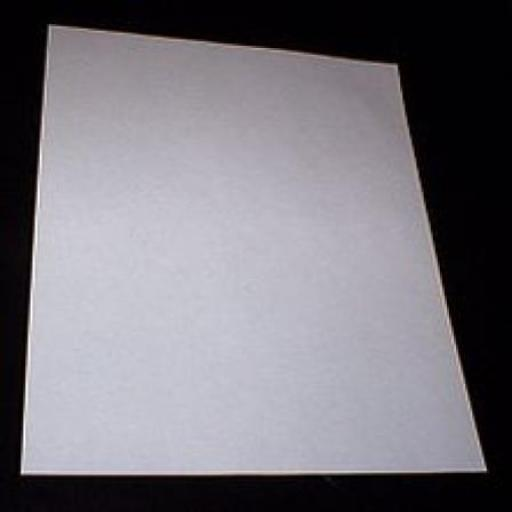paper: (9, 15, 505, 512)
